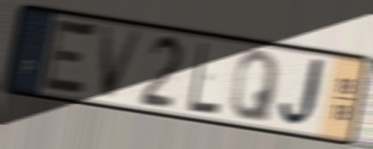2: (137, 32, 185, 114)
E: (39, 14, 100, 101)
J: (277, 56, 331, 130)
L: (187, 39, 222, 117)
Q: (228, 49, 282, 126)
V: (99, 24, 148, 102)
